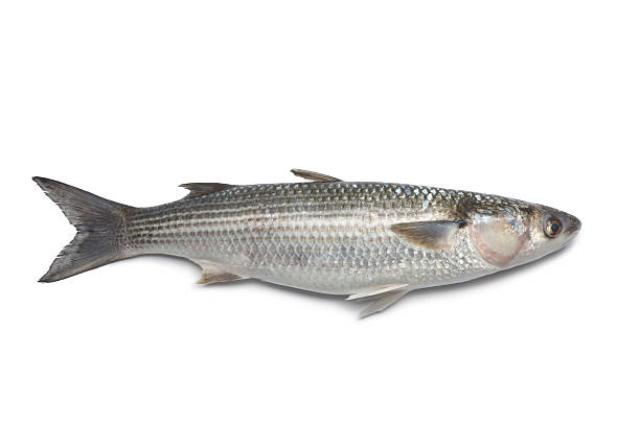Mulut: (547, 206, 589, 249)
Sirip Anal: (183, 249, 249, 297)
Sirip Dada: (388, 208, 467, 256)
Sirip Ekor: (28, 166, 124, 304)
Sirip Perut: (334, 271, 416, 329)
Sirip Punggung: (182, 166, 338, 206)
